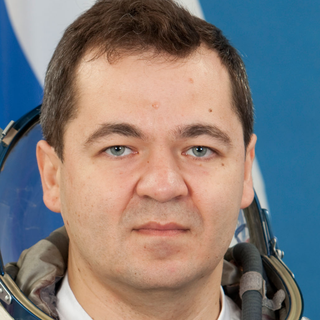eye: (93, 139, 142, 163), (177, 140, 225, 163)
